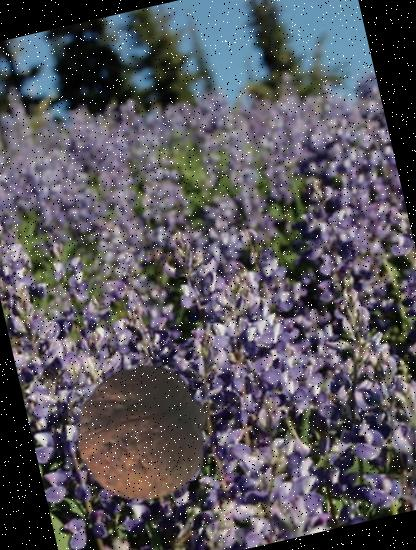Walnut: (60, 349, 227, 516)
